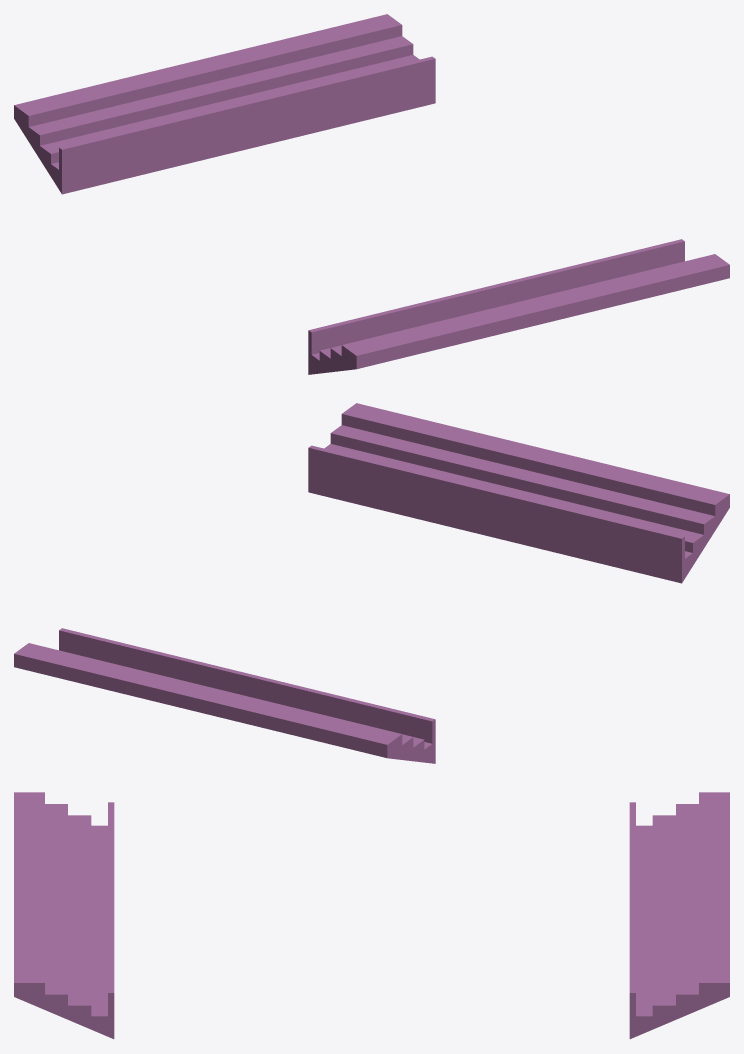
The model's file is SM_Theater_Main_Galleries.fbx.
3 renders of one model, top to bottom at view 1: azimuth 30°, elevation 25°; view 2: azimuth 150°, elevation 25°; view 3: azimuth 270°, elevation 25°, orthographic. The views are drawn at different scales.
Parts seen in each view (by area): view 1: SM_Theater_Main_Galleries; view 2: SM_Theater_Main_Galleries; view 3: SM_Theater_Main_Galleries.
Part boxes in pixels (bbox=[...]): SM_Theater_Main_Galleries: bbox=[14, 14, 729, 374]; SM_Theater_Main_Galleries: bbox=[14, 403, 729, 763]; SM_Theater_Main_Galleries: bbox=[14, 792, 729, 1038].
Bounding box in the file's own units: 1750 × 243 × 2780.
